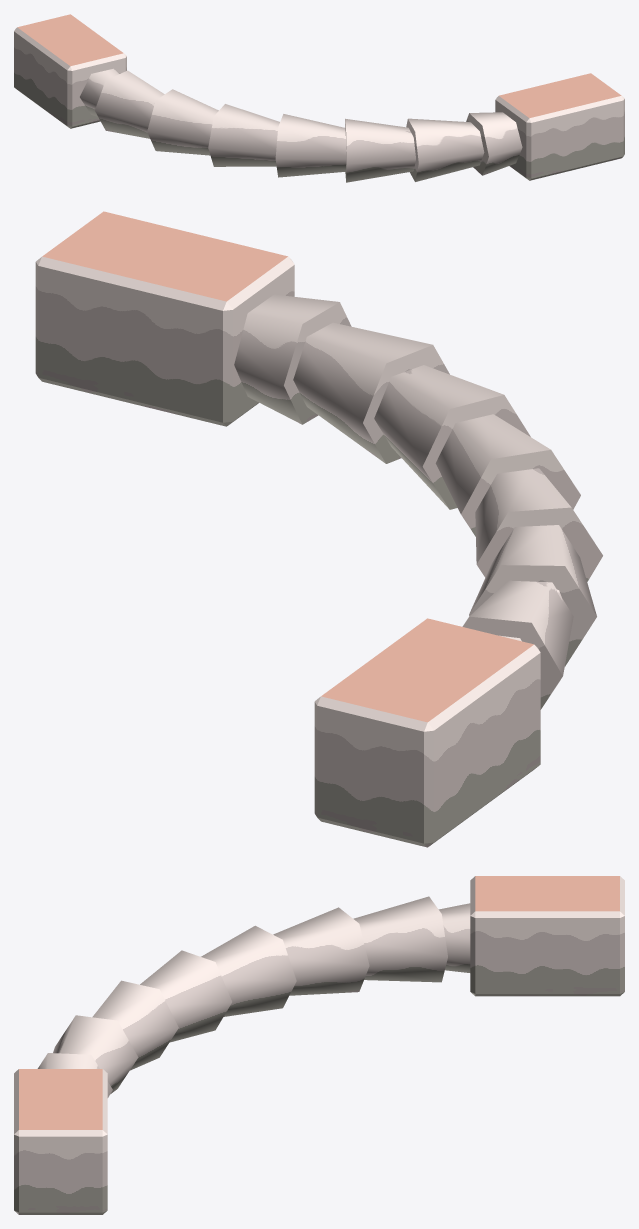
File: R4C_ROD_ARC_LONG_LOD1.glb
The picture shows the model from 3 angles, top to bottom: view 1: azimuth 30°, elevation 25°; view 2: azimuth 150°, elevation 25°; view 3: azimuth 270°, elevation 25°; orthographic projection. The views are drawn at different scales.
Parts seen in each view (by area): view 1: R4C_ROD_ARC_LONG_LOD1; view 2: R4C_ROD_ARC_LONG_LOD1; view 3: R4C_ROD_ARC_LONG_LOD1.
Part boxes in pixels (x1,y1,x2,y2): R4C_ROD_ARC_LONG_LOD1: (14, 14, 624, 182); R4C_ROD_ARC_LONG_LOD1: (35, 211, 602, 847); R4C_ROD_ARC_LONG_LOD1: (14, 876, 624, 1214).
Size of the model in its own units: 1.47 by 0.226 by 1.47.
2 materials, 2 textured.
